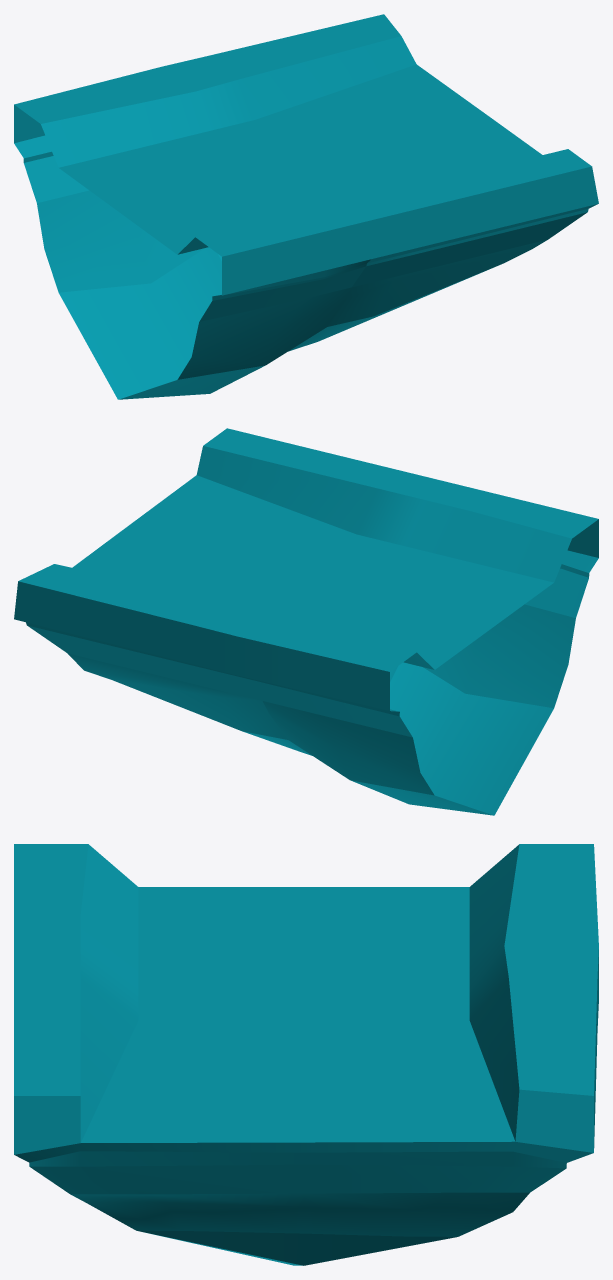
Rendered from Sml_End_Cap_L_NoC.fbx.
3 renders of one model, top to bottom at view 1: azimuth 30°, elevation 25°; view 2: azimuth 150°, elevation 25°; view 3: azimuth 270°, elevation 25°, orthographic. The views are drawn at different scales.
Visible parts, largest first — view 1: Sml_End_cap_L_No_C; view 2: Sml_End_cap_L_No_C; view 3: Sml_End_cap_L_No_C.
Boxes of the visible parts, x1,y1,x2,y2 form: Sml_End_cap_L_No_C: [14, 14, 598, 399]; Sml_End_cap_L_No_C: [14, 428, 598, 815]; Sml_End_cap_L_No_C: [14, 844, 598, 1265].
Size of the model in its own units: 1.36 by 0.7979 by 1.31.
